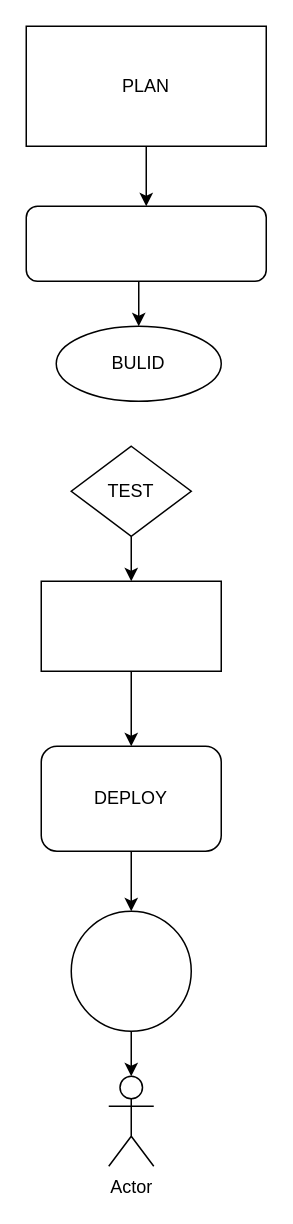
The diagram is 293 pixels wide and 1224 high, and some of its shapes have lost their labels. The centre of each missing label's shape, as x and y in pixels:
"DEVOLOP" goes at [145,243].
"OPERATE" goes at [130,970].
"RELEASE" goes at [130,625].
